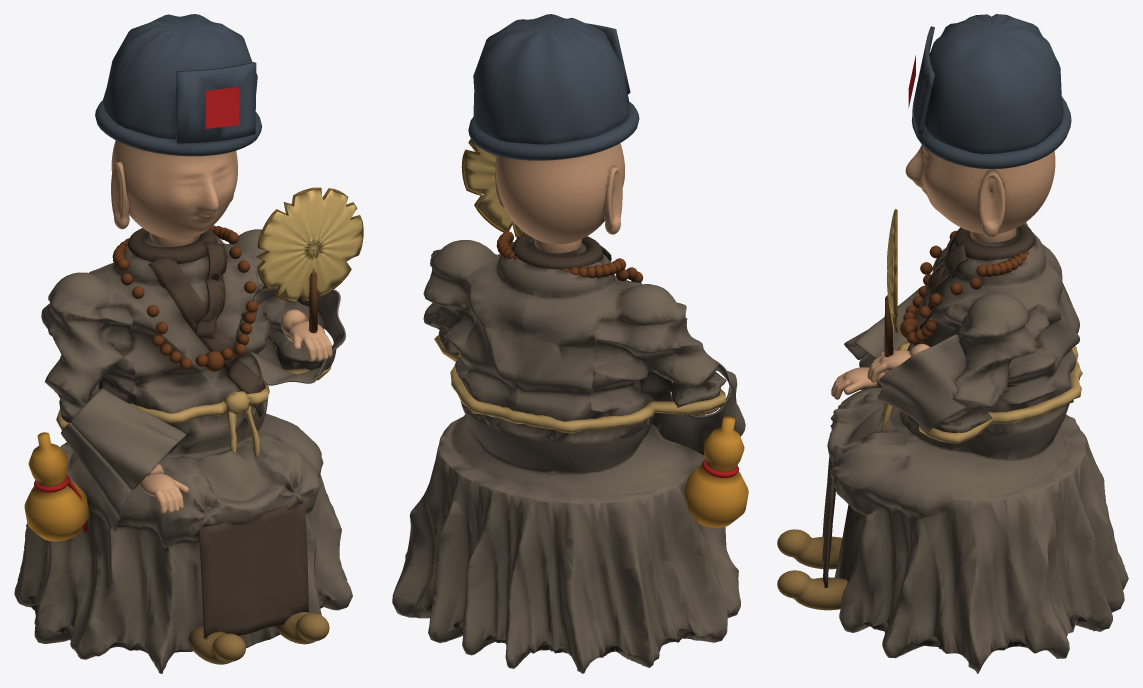
Rendered from jigong.glb.
The picture shows the model from 3 angles, left to right: view 1: azimuth 30°, elevation 25°; view 2: azimuth 150°, elevation 25°; view 3: azimuth 270°, elevation 25°; orthographic projection. The views are drawn at different scales.
Parts seen in each view (by area): view 1: JG_Robe, JG_Apron, JG_HatMesh, JG_HeadMesh, JG_FanLeaf, JG_SleeveL, JG_Lapel, JG_HatFlap, JG_GourdMesh, JG_Mala, JG_SleeveR, JG_Boots (+8 smaller); view 2: JG_Robe, JG_HatMesh, JG_HeadMesh, JG_GourdMesh, JG_RopeBelt, JG_HatBand, JG_SleeveL, JG_FanLeaf, JG_Collar, JG_Mala, JG_Ears, JG_FanRim; view 3: JG_Robe, JG_HatMesh, JG_HeadMesh, JG_SleeveR, JG_Boots, JG_HatBand, JG_Mala, JG_RopeBelt, JG_SleeveL, JG_Ears, JG_Collar, JG_HatFlap (+5 smaller).
Boxes of the visible parts, x1,y1,x2,y2 form: JG_Robe: [14, 229, 352, 673]; JG_Apron: [198, 503, 308, 638]; JG_HatMesh: [102, 14, 257, 139]; JG_HeadMesh: [111, 140, 237, 240]; JG_FanLeaf: [259, 190, 362, 301]; JG_SleeveL: [61, 388, 186, 531]; JG_Lapel: [148, 241, 265, 417]; JG_HatFlap: [175, 62, 256, 143]; JG_GourdMesh: [24, 432, 89, 541]; JG_Mala: [112, 225, 258, 371]; JG_SleeveR: [250, 284, 345, 385]; JG_Boots: [188, 612, 329, 664]; JG_Robe: [392, 238, 740, 673]; JG_HatMesh: [473, 14, 628, 144]; JG_HeadMesh: [495, 143, 624, 244]; JG_GourdMesh: [685, 416, 748, 527]; JG_RopeBelt: [434, 335, 725, 433]; JG_HatBand: [468, 101, 639, 160]; JG_SleeveL: [650, 359, 745, 455]; JG_FanLeaf: [464, 141, 523, 235]; JG_Collar: [512, 233, 603, 269]; JG_Mala: [496, 231, 643, 284]; JG_Ears: [495, 155, 622, 234]; JG_FanRim: [461, 138, 525, 237]; JG_Robe: [827, 222, 1128, 673]; JG_HatMesh: [924, 14, 1063, 154]; JG_HeadMesh: [905, 145, 1055, 234]; JG_SleeveR: [877, 334, 966, 431]; JG_Boots: [777, 529, 847, 610]; JG_HatBand: [911, 97, 1071, 169]; JG_Mala: [900, 230, 1028, 344]; JG_RopeBelt: [880, 343, 1082, 443]; JG_SleeveL: [844, 288, 919, 367]; JG_Ears: [978, 170, 1005, 237]; JG_Collar: [954, 224, 1034, 260]; JG_HatFlap: [912, 26, 934, 136].
Size of the model in its own units: 1.22 by 2.13 by 1.16.
